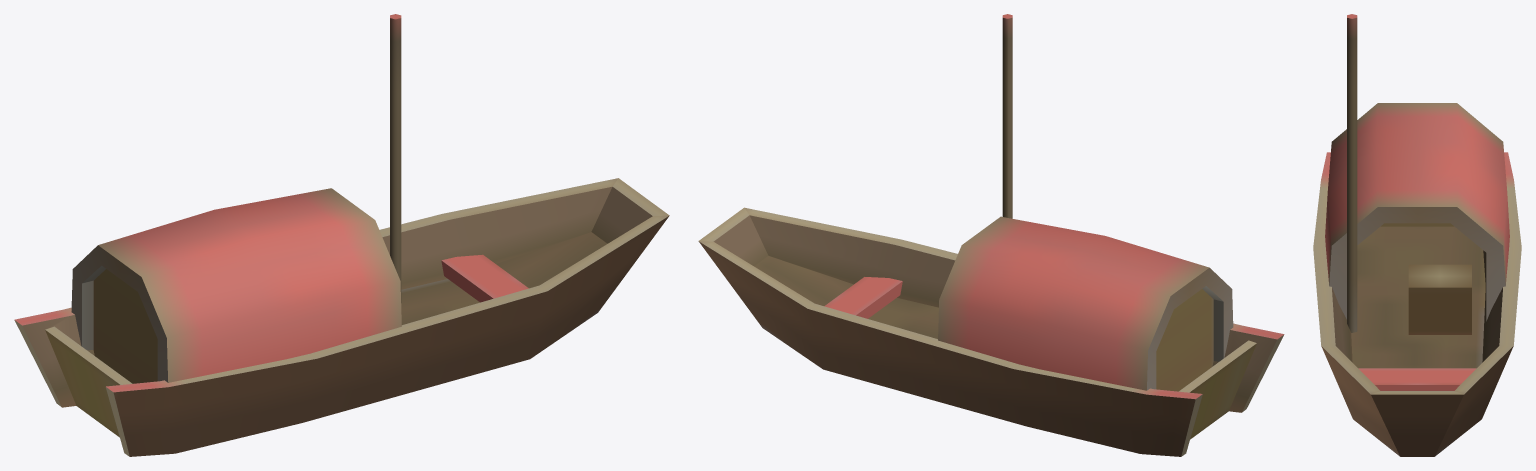
File: Coach_Building_Hooker_L1_02_Mod.fbx
3 renders of one model, left to right at view 1: azimuth 30°, elevation 25°; view 2: azimuth 150°, elevation 25°; view 3: azimuth 270°, elevation 25°, orthographic. The views are drawn at different scales.
Visible parts, largest first — view 1: Coach_Building_Hooker_L1_02_Mod; view 2: Coach_Building_Hooker_L1_02_Mod; view 3: Coach_Building_Hooker_L1_02_Mod.
Boxes of the visible parts, left/top/right/bottom form: Coach_Building_Hooker_L1_02_Mod: left=14, top=14, right=669, bottom=456; Coach_Building_Hooker_L1_02_Mod: left=698, top=14, right=1284, bottom=456; Coach_Building_Hooker_L1_02_Mod: left=1313, top=14, right=1521, bottom=456.
Size of the model in its own units: 585 by 366 by 200.
